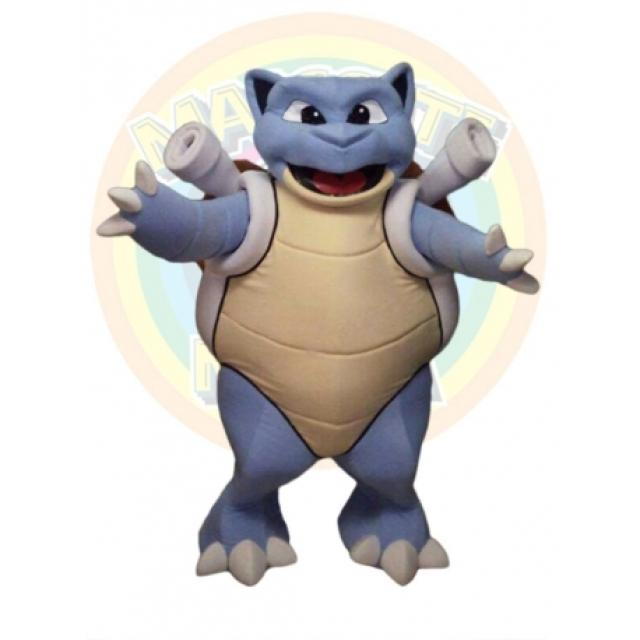Blastoise: (103, 57, 539, 582)
